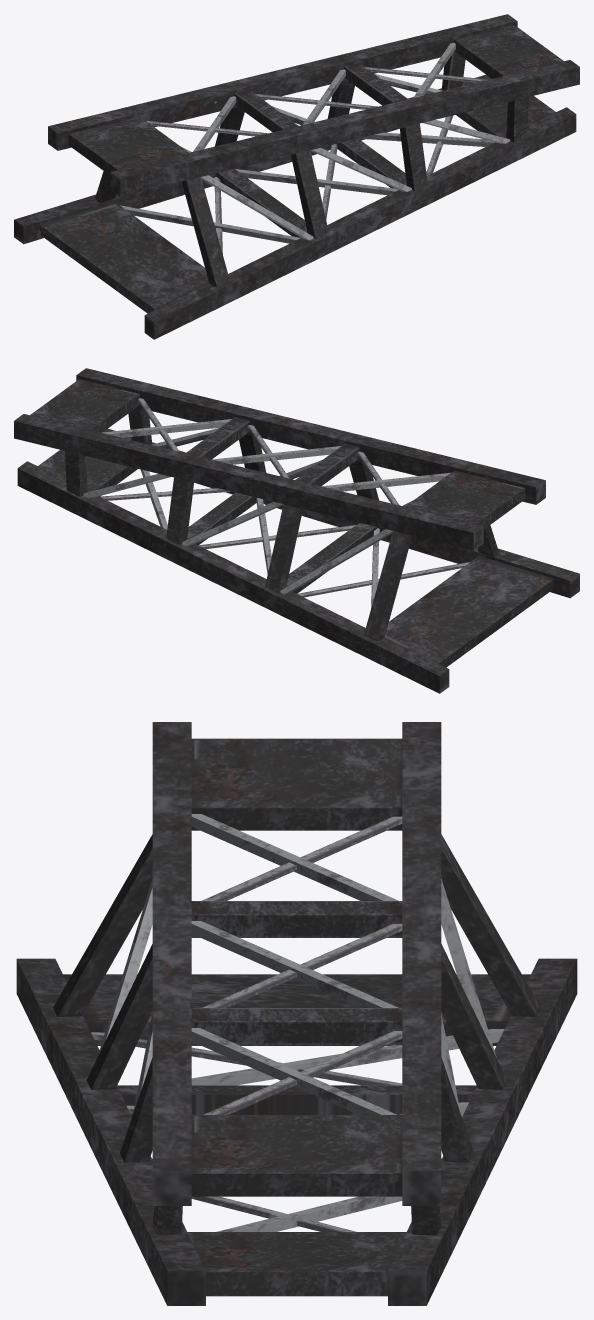
Rendered from beam_s_2.fbx.
3 renders of one model, top to bottom at view 1: azimuth 30°, elevation 25°; view 2: azimuth 150°, elevation 25°; view 3: azimuth 270°, elevation 25°, orthographic. The views are drawn at different scales.
Parts seen in each view (by area): view 1: beam_s_2; view 2: beam_s_2; view 3: beam_s_2.
Boxes of the visible parts, box(x1,y1,x2,y2) form: beam_s_2: box(14, 14, 579, 339); beam_s_2: box(14, 368, 579, 693); beam_s_2: box(16, 722, 577, 1305).
Bounding box in the file's own units: 6.8 × 1.92 × 3.59.
